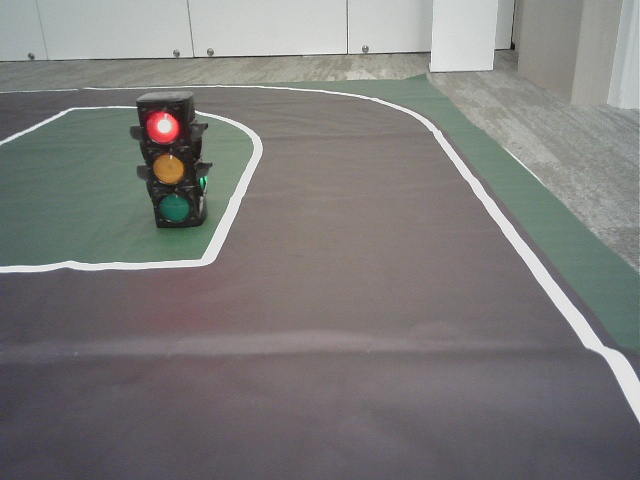red: (139, 105, 198, 223)
